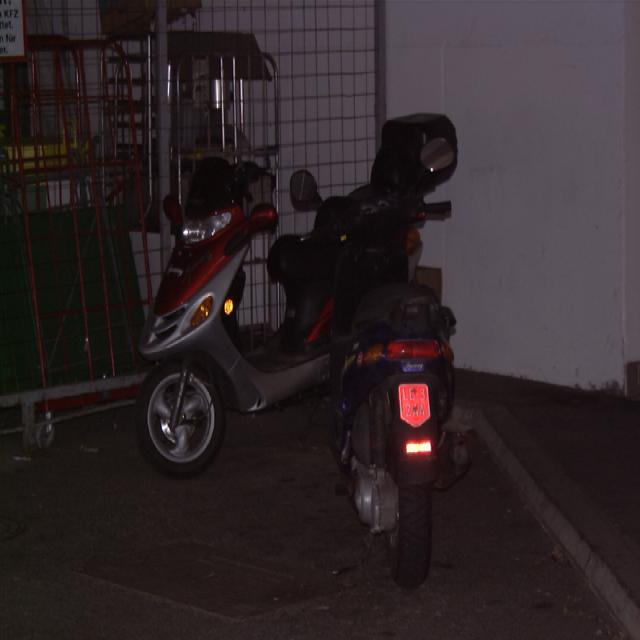Motorbike: (146, 106, 418, 482), (289, 94, 485, 592)
